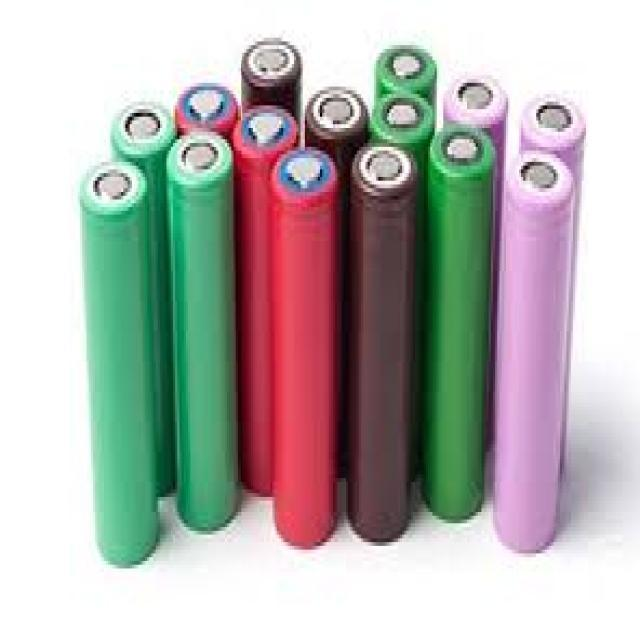Battery: (69, 162, 169, 576), (494, 148, 579, 580), (162, 129, 250, 543), (425, 135, 502, 536), (352, 142, 421, 574), (268, 154, 340, 558), (230, 109, 285, 512), (221, 30, 323, 104), (306, 74, 372, 152), (300, 80, 374, 148), (440, 69, 516, 135), (108, 96, 173, 165), (519, 85, 585, 152), (170, 78, 242, 134), (367, 47, 446, 98)
